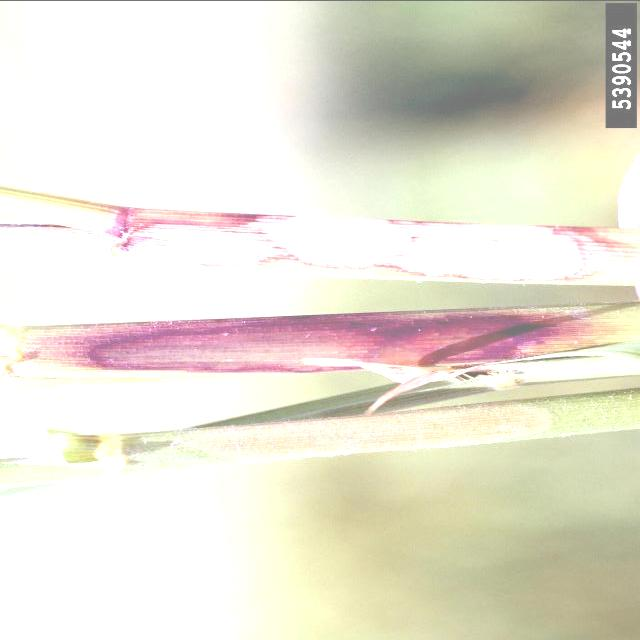Bacterial_Leaf_Blight: (0, 206, 640, 282), (0, 304, 602, 374), (188, 399, 553, 462)
